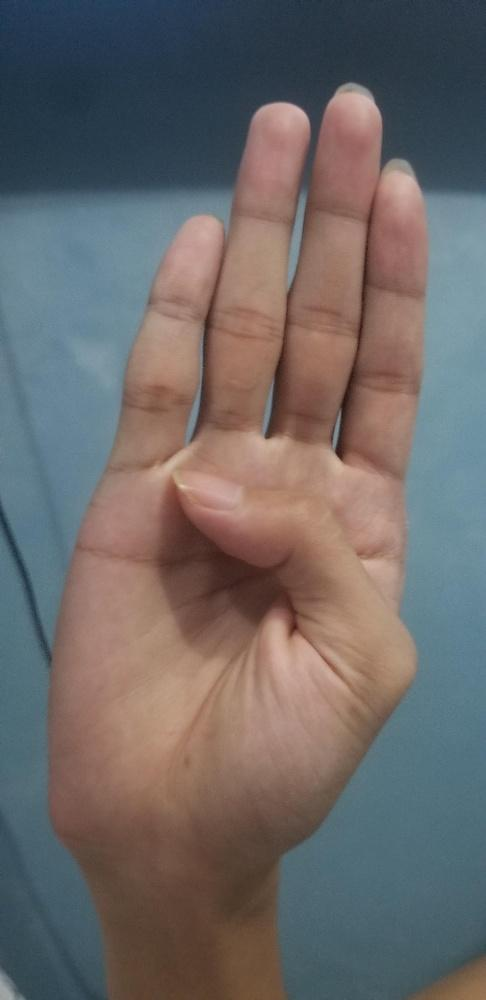b: (36, 68, 435, 865)
